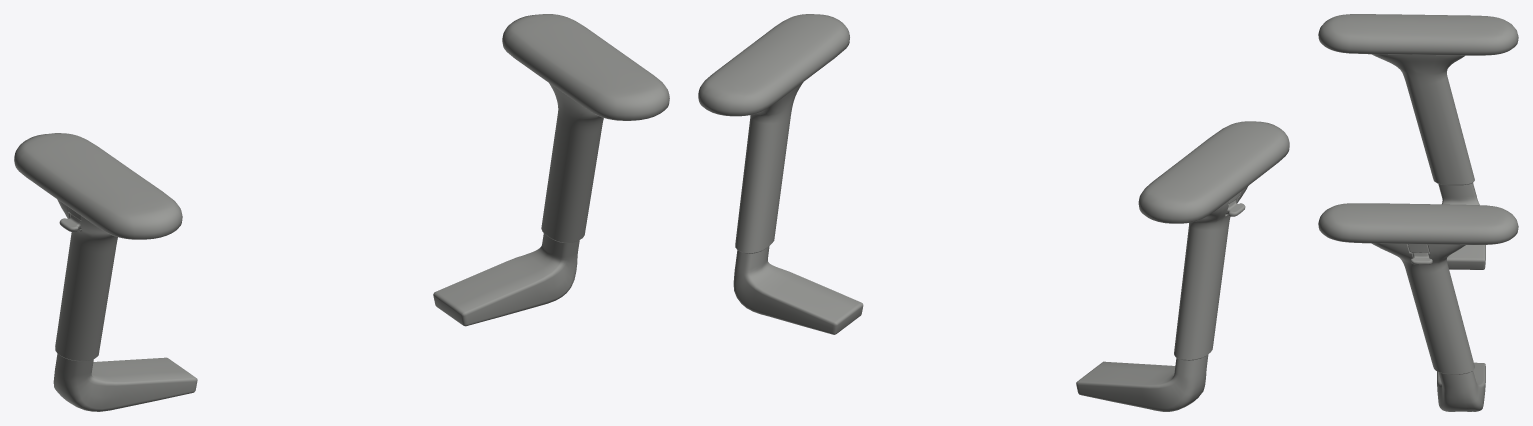
Rendered from 2D_arm.glb.
The picture shows the model from 3 angles, left to right: view 1: azimuth 30°, elevation 25°; view 2: azimuth 150°, elevation 25°; view 3: azimuth 270°, elevation 25°; orthographic projection. The views are drawn at different scales.
Visible parts, largest first — view 1: AFUCH-3-ARPL, AFUCH-3-ARPD; view 2: AFUCH-3-ARPL, AFUCH-3-ARPD; view 3: AFUCH-3-ARPL, AFUCH-3-ARPD.
Boxes of the visible parts, x1,y1,x2,y2 form: AFUCH-3-ARPL: [53, 83, 603, 411]; AFUCH-3-ARPD: [14, 14, 669, 239]; AFUCH-3-ARPL: [733, 82, 1247, 411]; AFUCH-3-ARPD: [698, 14, 1289, 223]; AFUCH-3-ARPL: [1371, 54, 1485, 411]; AFUCH-3-ARPD: [1318, 14, 1518, 244].
Bounding box in the file's own units: 67.47 × 29.57 × 26.14.
1 material, 1 textured.
